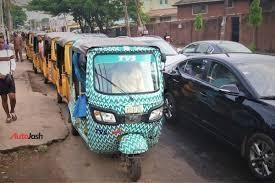keke: (44, 31, 180, 182), (68, 37, 168, 180)
